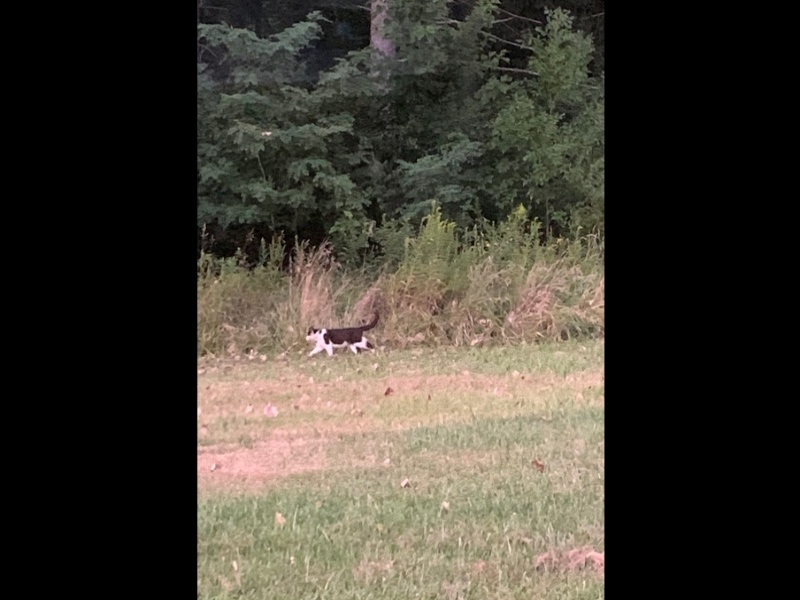cat: (304, 312, 382, 359)
